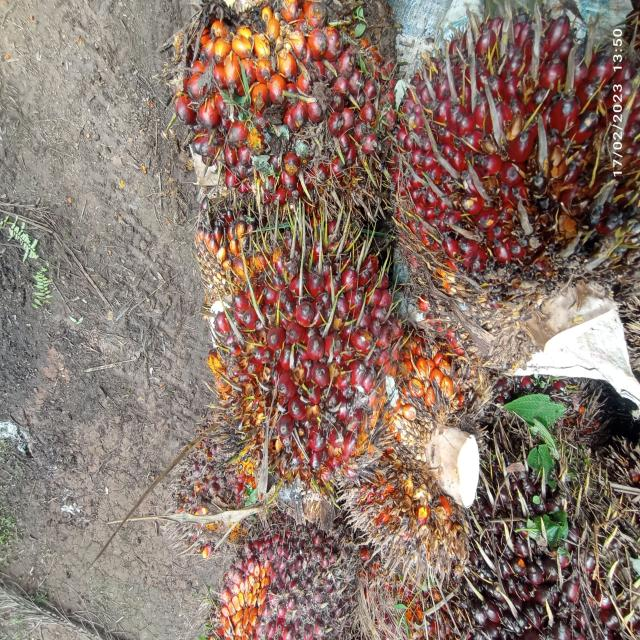fraksi 1: (210, 525, 370, 640)
fraksi 3: (376, 10, 633, 344), (195, 212, 428, 496), (149, 0, 417, 224)
